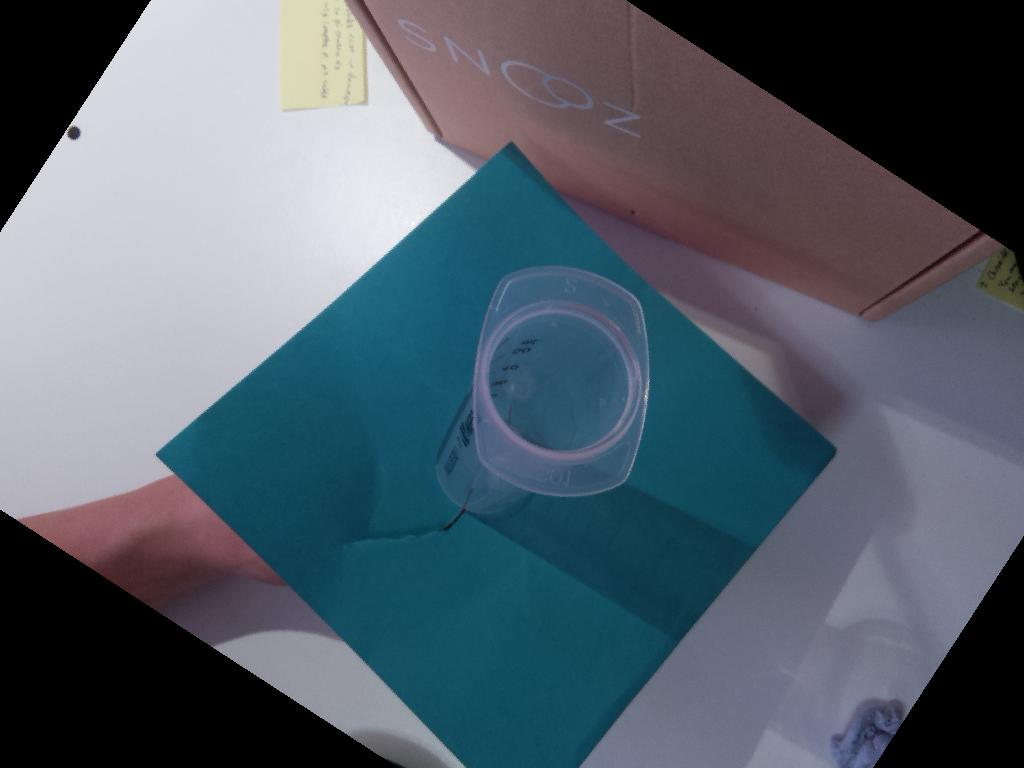clean: (469, 263, 650, 498)
